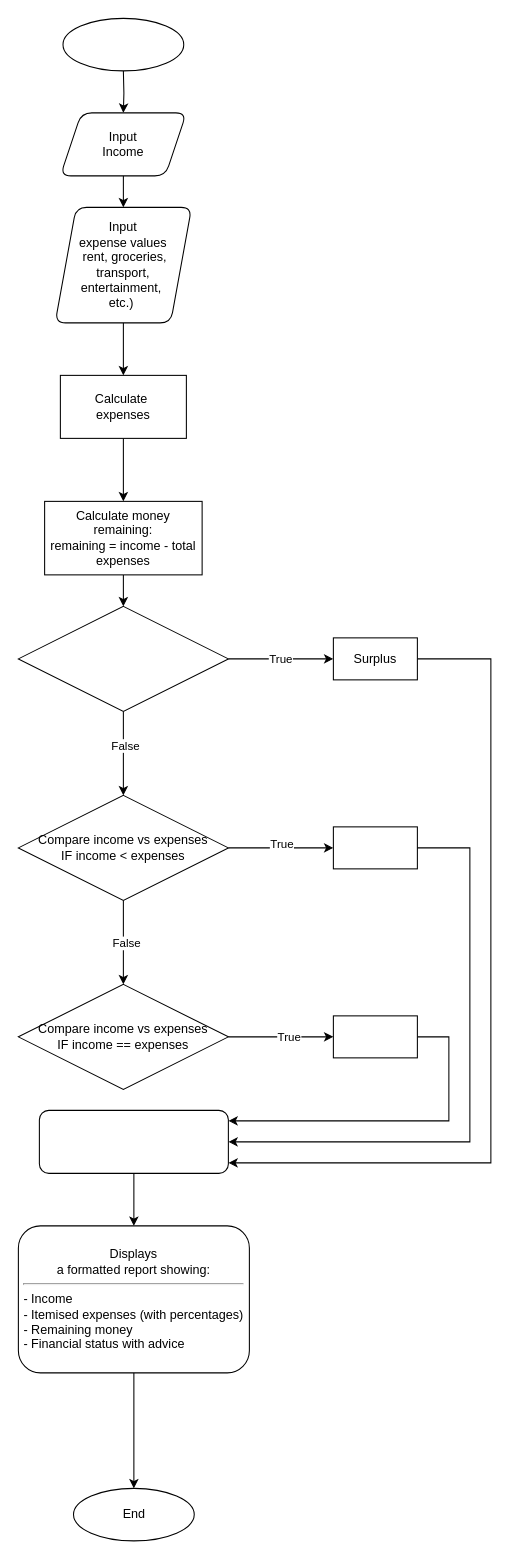
The diagram is 518 pixels wide and 1559 high, and some of its shapes have lost their labels. The centre of each missing label's shape, as x and y in pixels:
"Balanced budget" goes at pixel 374 1036.
"Compare income vs expenses IF income > expenses" goes at pixel 122 658.
"Deficit" goes at pixel 374 847.
"Provide personalised feedback/recommendations" goes at pixel 133 1141.
"Start" goes at pixel 123 44.
